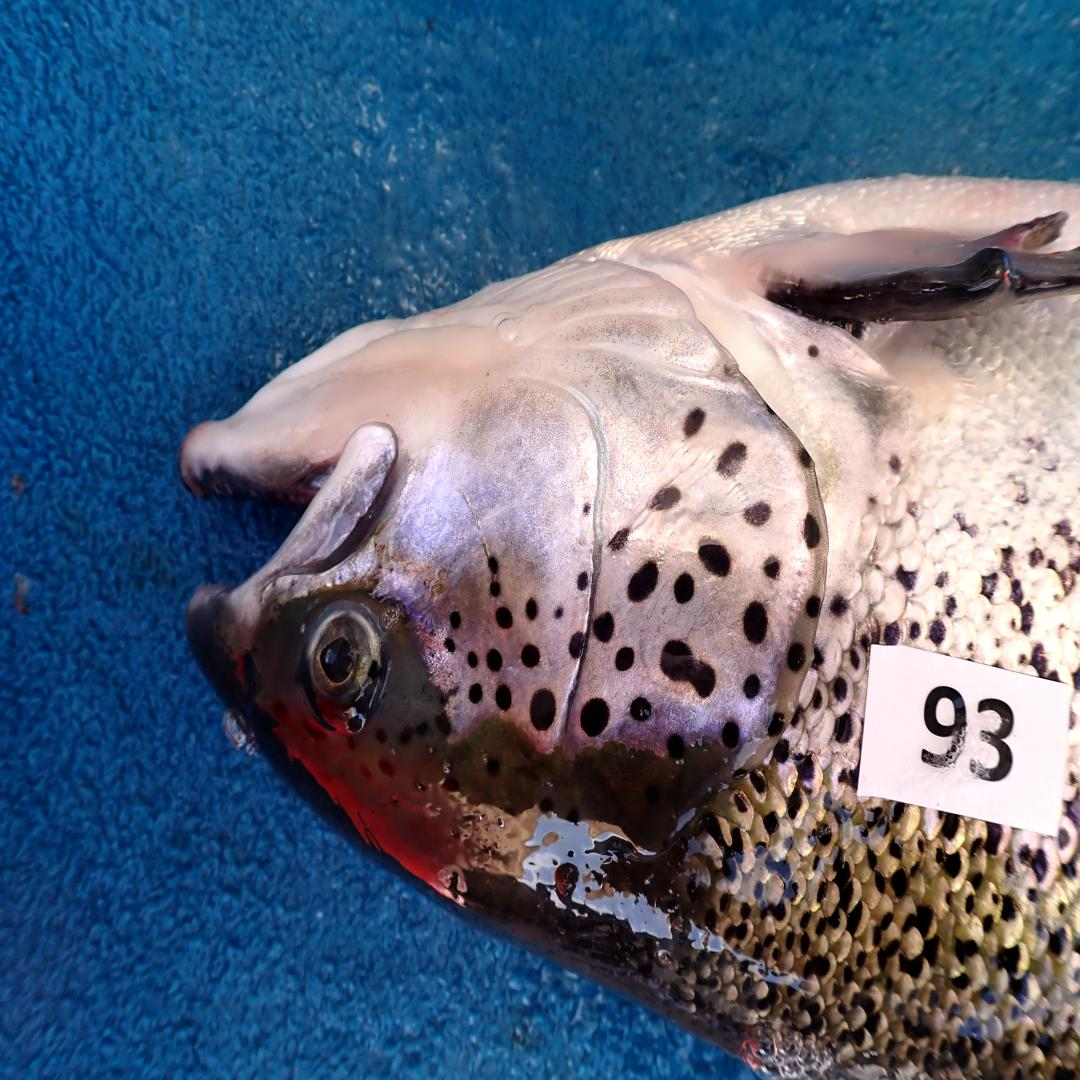roi: (399, 246, 827, 764)
